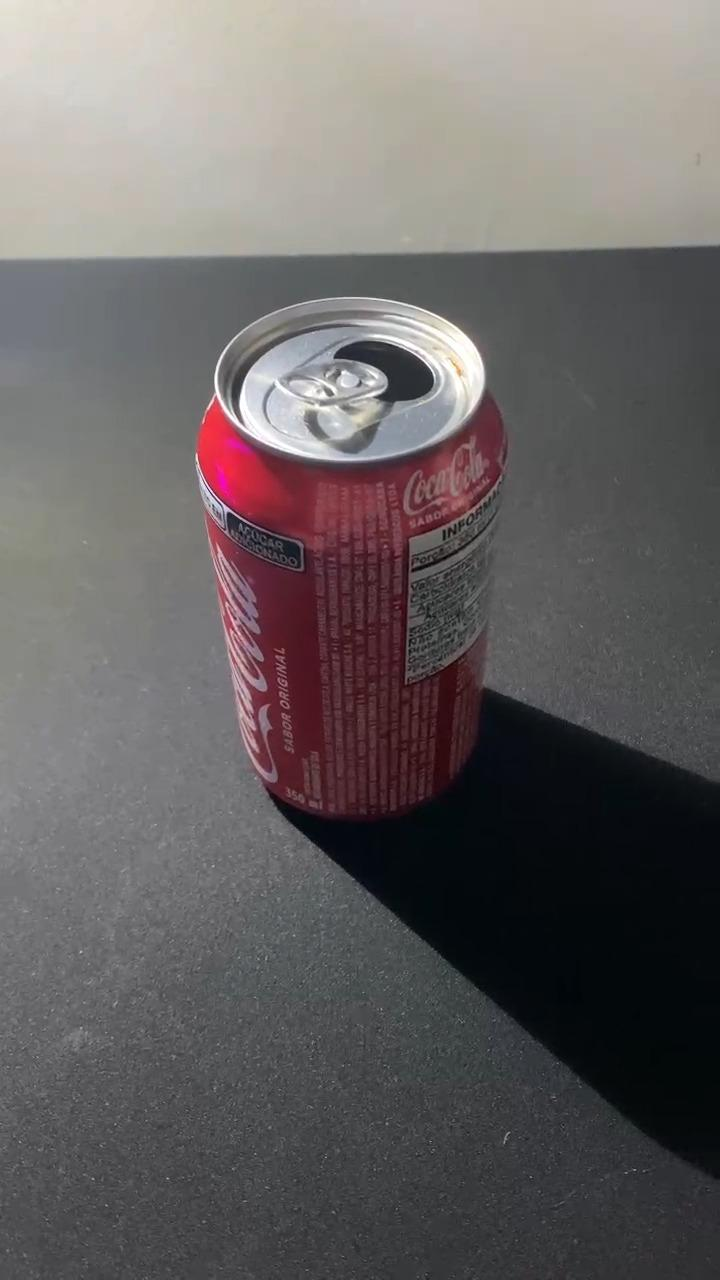coke: (199, 299, 505, 820)
